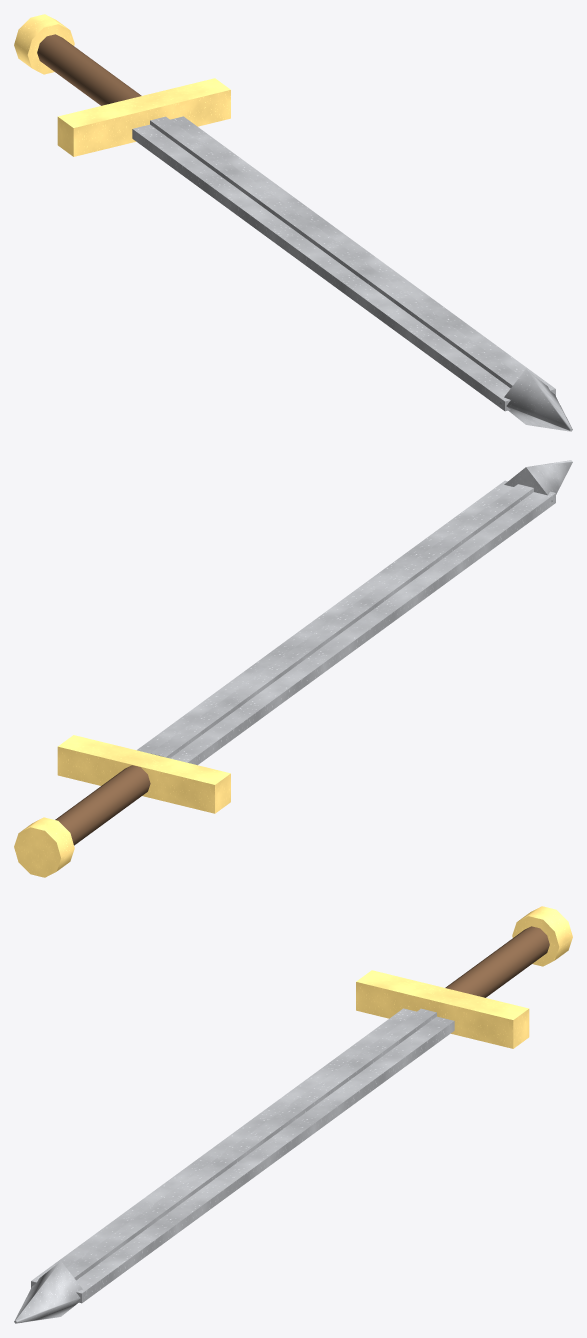
File: sword.glb
3 renders of one model, top to bottom at view 1: azimuth 30°, elevation 25°; view 2: azimuth 150°, elevation 25°; view 3: azimuth 330°, elevation 25°, orthographic.
Visible parts, largest first — view 1: sword; view 2: sword; view 3: sword.
Boxes of the visible parts, box(x1,y1,x2,y2) form: sword: box(14, 14, 572, 431); sword: box(14, 460, 572, 877); sword: box(14, 906, 572, 1323).
Bounding box in the file's own units: 0.2 × 0.068 × 1.17.
Materials: 3 (2 with a texture image).
